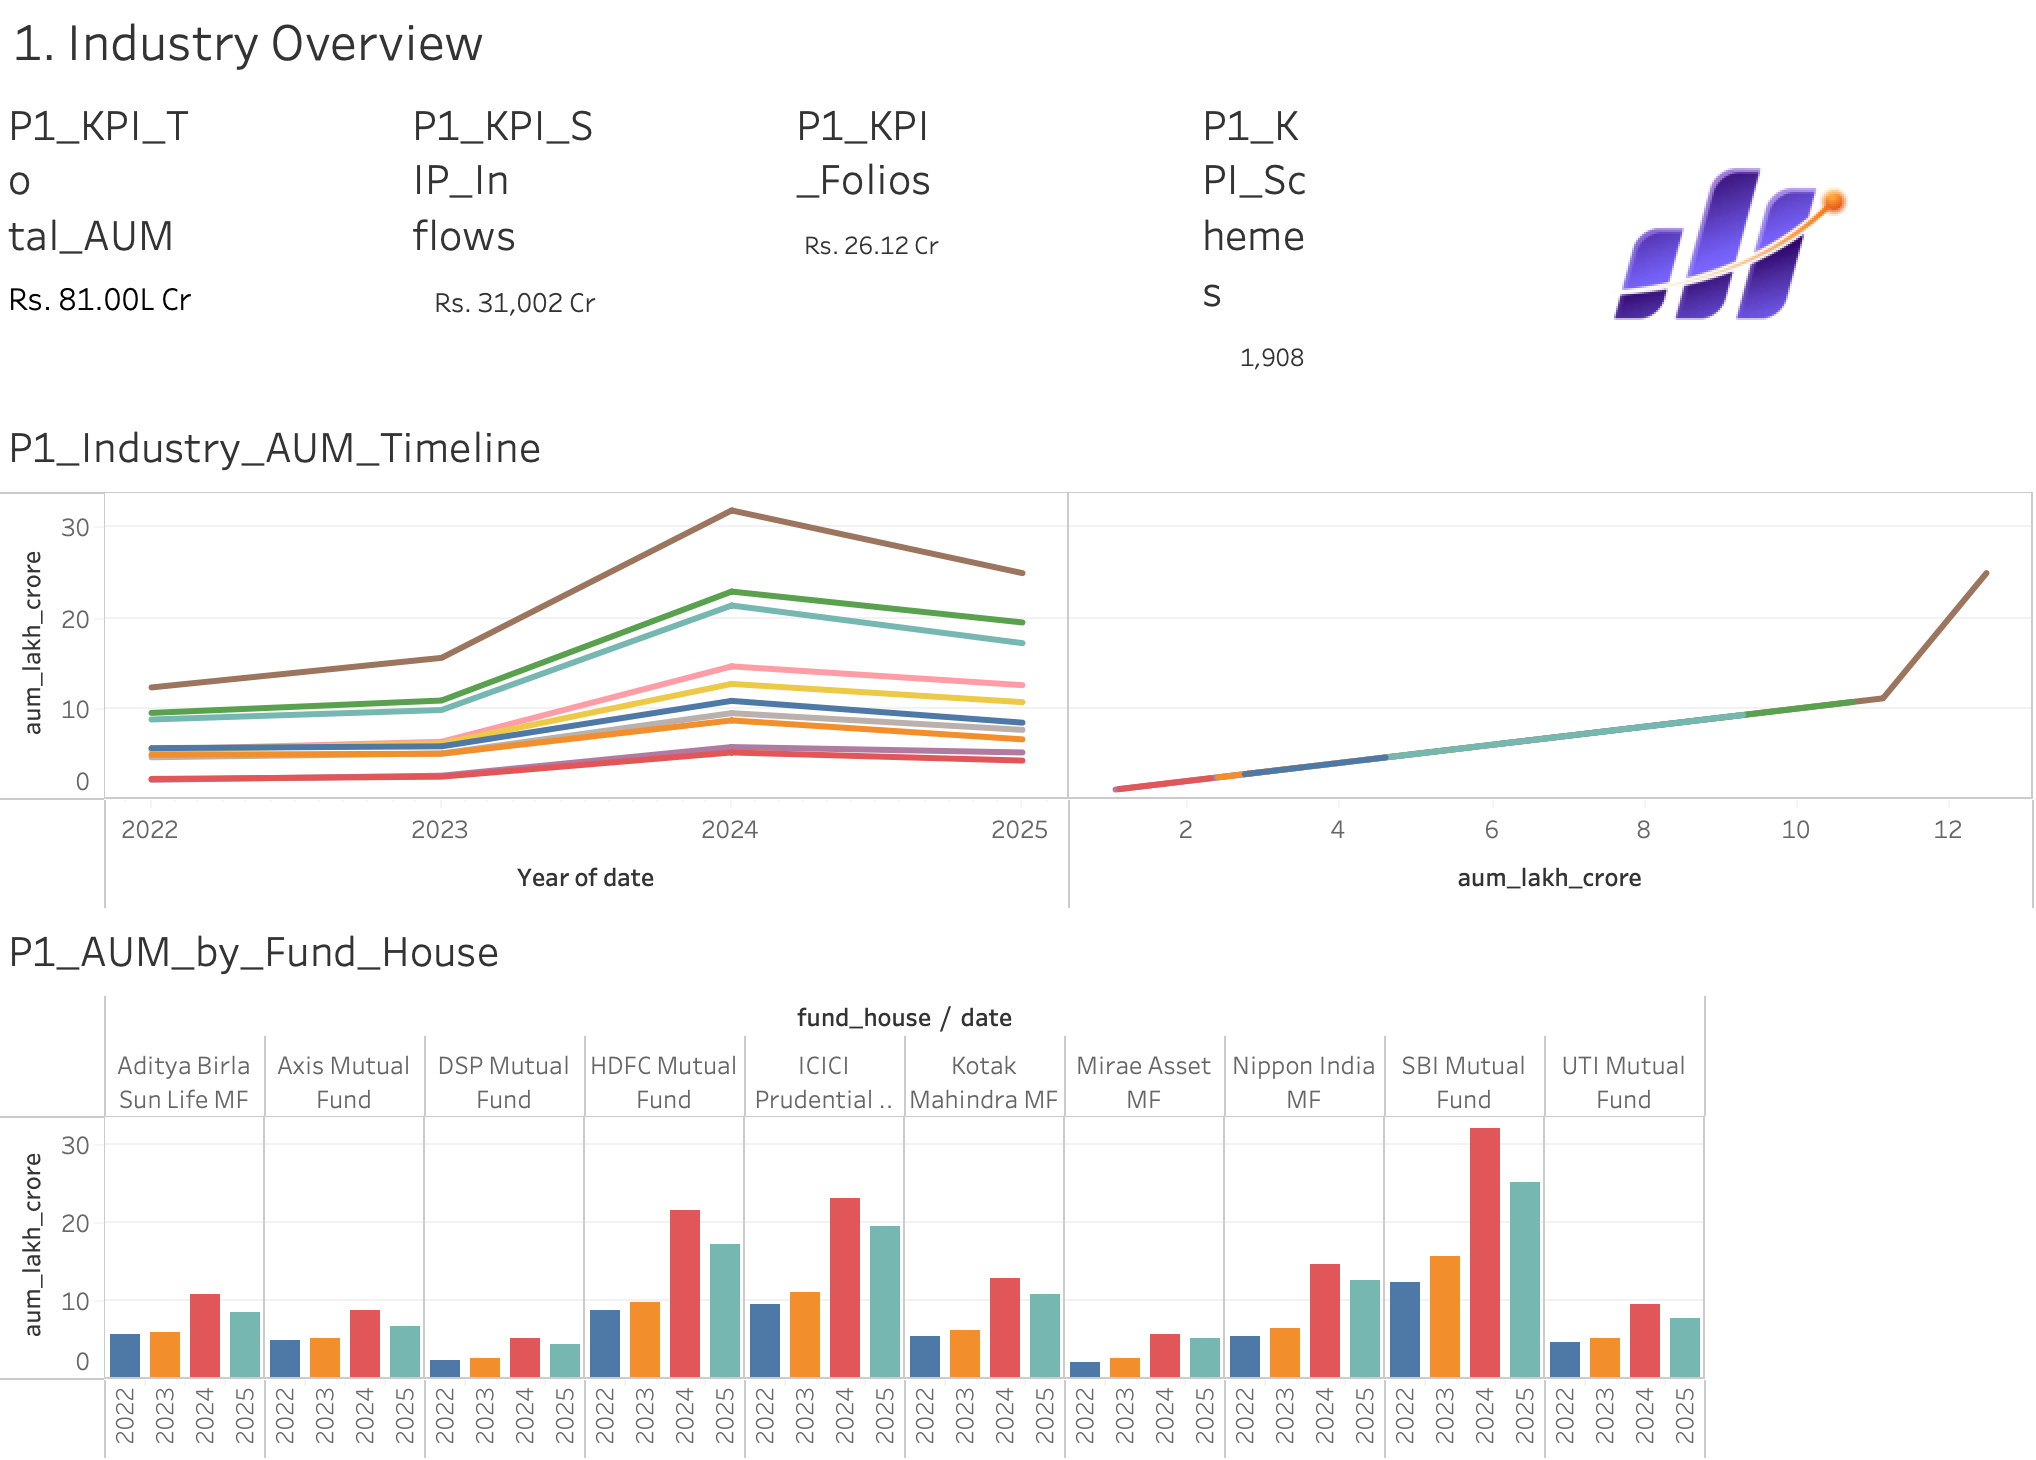

This screenshot's page, from the dashboard's own definition file:
{"tool":"tableau","page":{"name":"1. Industry Overview","canvas":[1000,1000],"units":"permille","ordinal":0},"visuals":[{"type":"title","box":[0,0,1000,57.5]},{"type":"worksheet","title":"P1_KPI_Total_AUM","mark":"Text","box":[0,57.5,198.4,220.8]},{"type":"worksheet","title":"P1_KPI_SIP_Inflows","mark":"Automatic","box":[198.4,57.5,188.6,220.8]},{"type":"worksheet","title":"P1_KPI_Folios","mark":"Automatic","box":[387,57.5,199.4,220.8]},{"type":"worksheet","title":"P1_KPI_Schemes","mark":"Automatic","box":[586.5,57.5,183.7,220.8]},{"type":"image","box":[770.1,57.5,229.9,220.8]},{"type":"worksheet","title":"P1_Industry_AUM_Timeline","mark":"Automatic","rows":["aum_lakh_crore"],"cols":["date","aum_lakh_crore"],"box":[0,278.3,1000,344.7]},{"type":"worksheet","title":"P1_AUM_by_Fund_House","mark":"Bar","rows":["aum_lakh_crore"],"cols":["fund_house","date"],"box":[0,623,1000,377]}]}

Visuals, with their boxes on the dashboard's canvas, which has no fixed pixel size, in thousandths of its width and height (x1, y1, x2, y2). These are canvas units, not pixel positions in the 2036x1460 screenshot, which may show the page scaled, cropped or inside an application window:
title: [0,0,1000,58]
"P1_KPI_Total_AUM" worksheet (Text marks): [0,58,198,278]
"P1_KPI_SIP_Inflows" worksheet: [198,58,387,278]
"P1_KPI_Folios" worksheet: [387,58,586,278]
"P1_KPI_Schemes" worksheet: [586,58,770,278]
image: [770,58,1000,278]
"P1_Industry_AUM_Timeline" worksheet: [0,278,1000,623]
"P1_AUM_by_Fund_House" worksheet (Bar marks): [0,623,1000,1000]
